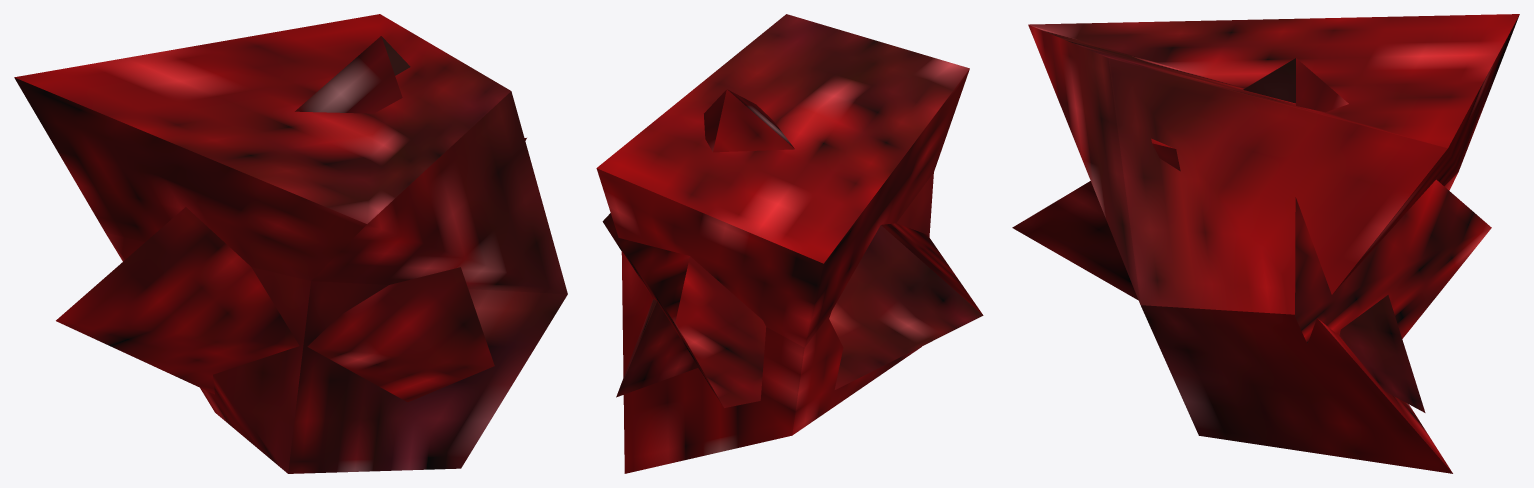
The model's file is LP_Gibs.fbx.
3 renders of one model, left to right at view 1: azimuth 30°, elevation 25°; view 2: azimuth 150°, elevation 25°; view 3: azimuth 270°, elevation 25°, orthographic. The views are drawn at different scales.
Parts seen in each view (by area): view 1: Giblet3, Giblet2; view 2: Giblet3, Giblet2, Giblet; view 3: Giblet3, Giblet2, Giblet.
Part boxes in pixels (x1,y1,x2,y2): Giblet3: (14, 14, 567, 473); Giblet2: (56, 36, 494, 402); Giblet3: (596, 14, 969, 473); Giblet2: (602, 89, 983, 407); Giblet: (616, 299, 698, 397); Giblet3: (1028, 14, 1519, 473); Giblet2: (1012, 58, 1491, 343); Giblet: (1151, 138, 1425, 412).
Size of the model in its own units: 25.98 by 22.99 by 25.88.
